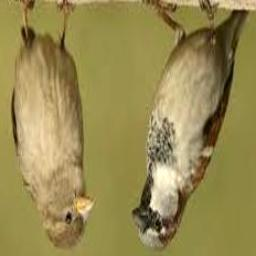Sparrow: (132, 0, 252, 251), (11, 0, 96, 250)
